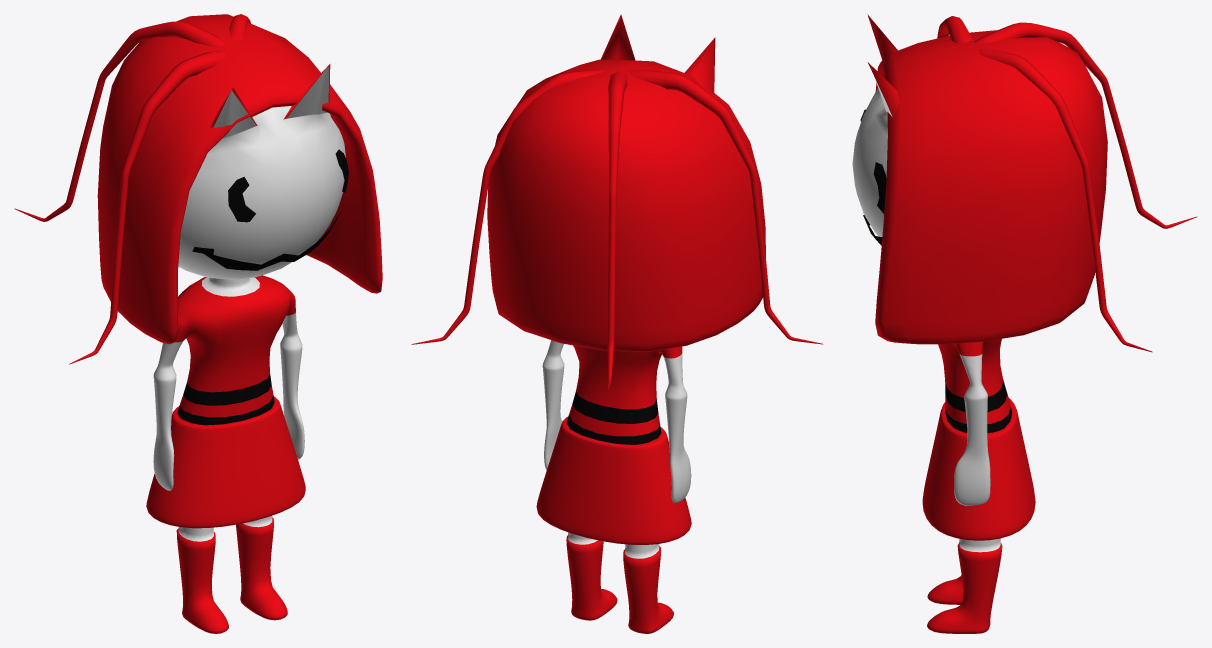
File: котя.fbx
The picture shows the model from 3 angles, left to right: view 1: azimuth 30°, elevation 25°; view 2: azimuth 150°, elevation 25°; view 3: azimuth 270°, elevation 25°; orthographic projection. The views are drawn at different scales.
Visible parts, largest first — view 1: Cube.032, Cube, Cube.001; view 2: Cube.032, Cube, Cube.001; view 3: Cube.032, Cube, Cube.001.
Boxes of the visible parts, x1,y1,x2,y2 form: Cube.032: (14,14,382,364); Cube: (153,275,304,633); Cube.001: (146,396,305,528); Cube.032: (411,14,823,389); Cube: (542,340,691,633); Cube.001: (536,416,691,544); Cube.032: (852,14,1197,352); Cube: (927,339,1012,633); Cube.001: (922,398,1035,540).
Size of the model in its own units: 119 by 212 by 114.
